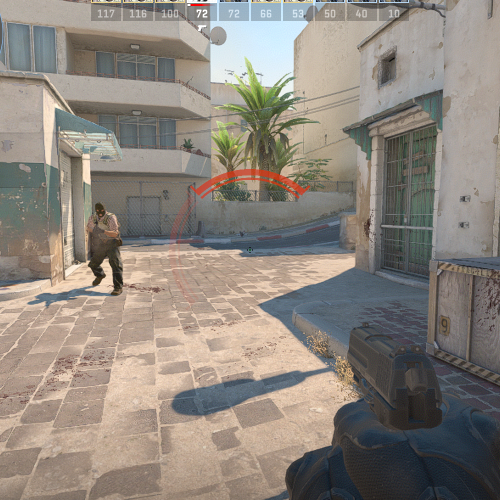t_body: (86, 203, 125, 297)
t_head: (94, 203, 108, 218)
